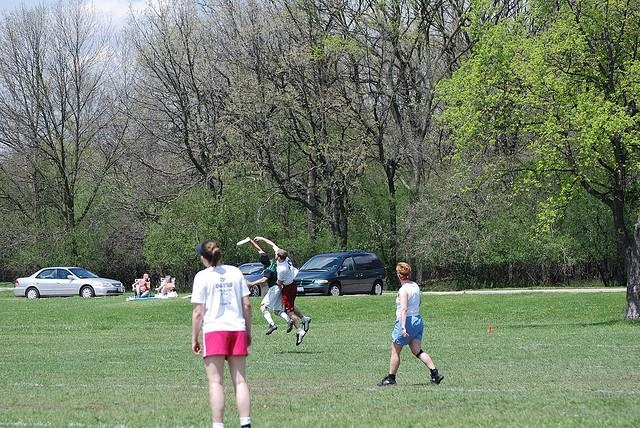person: (187, 238, 256, 428), (378, 261, 444, 387), (253, 233, 314, 343), (240, 235, 291, 334)
